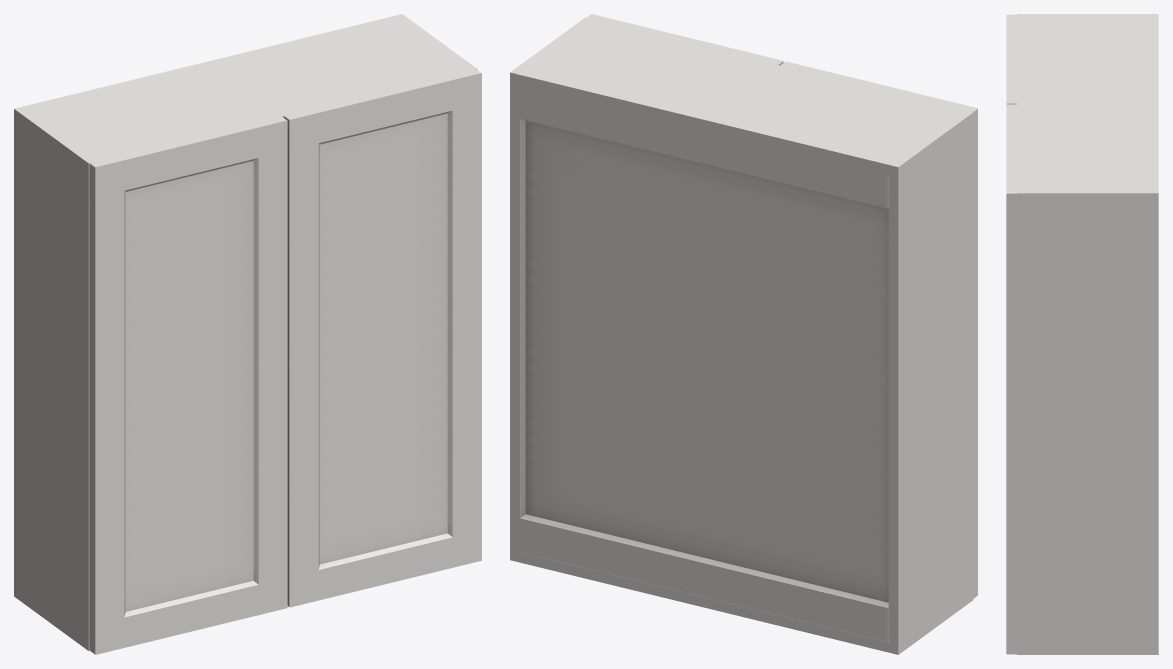
Rendered from vanity-wall-2-door-doors-on.glb.
3 renders of one model, left to right at view 1: azimuth 30°, elevation 25°; view 2: azimuth 150°, elevation 25°; view 3: azimuth 270°, elevation 25°, orthographic. The views are drawn at different scales.
Visible parts, largest first — view 1: part_5, part_0; view 2: part_0, part_5; view 3: part_0, part_5.
Part boxes in pixels (left/top/right/bottom): part_5: left=89, top=69, right=481, bottom=654; part_0: left=14, top=14, right=477, bottom=650; part_0: left=510, top=18, right=973, bottom=654; part_5: left=586, top=14, right=977, bottom=598; part_0: left=1017, top=14, right=1158, bottom=654; part_5: left=1006, top=14, right=1016, bottom=654.
Size of the model in its own units: 0.762 by 0.9144 by 0.273.
Materials: 2 (2 with a texture image).
